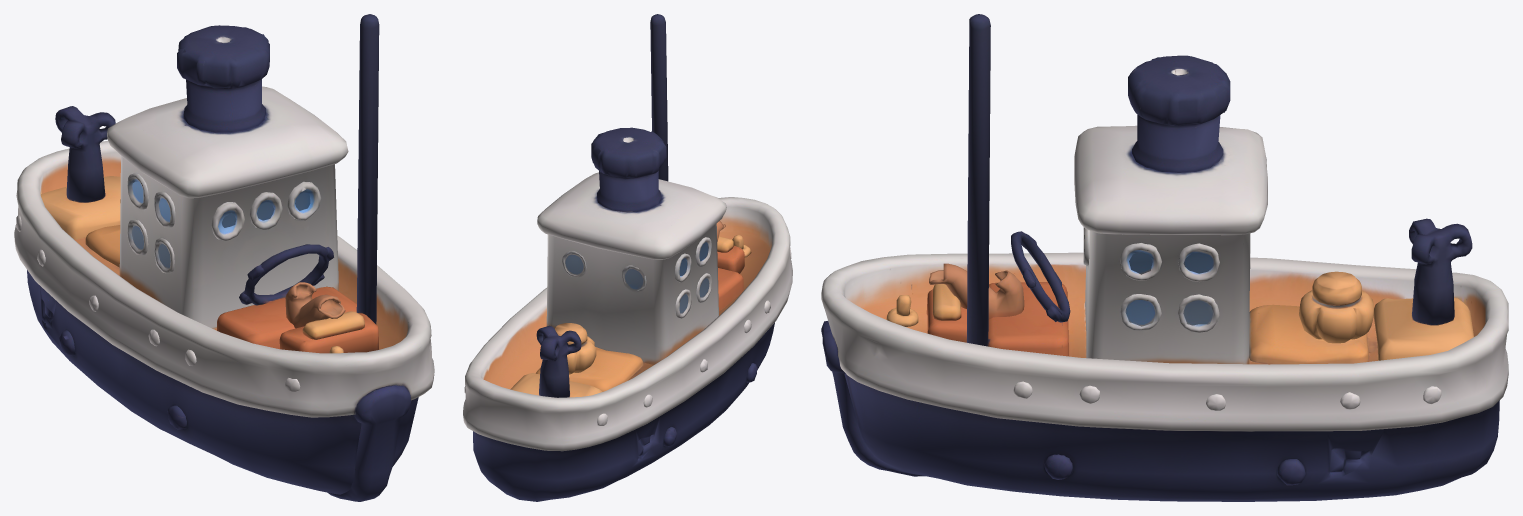
File: ship.glb
The picture shows the model from 3 angles, left to right: view 1: azimuth 30°, elevation 25°; view 2: azimuth 150°, elevation 25°; view 3: azimuth 270°, elevation 25°; orthographic projection. The views are drawn at different scales.
Visible parts, largest first — view 1: tripo_node_0cf9fa24-f980-418a-807a-9b3106175c43; view 2: tripo_node_0cf9fa24-f980-418a-807a-9b3106175c43; view 3: tripo_node_0cf9fa24-f980-418a-807a-9b3106175c43.
Boxes of the visible parts, x1,y1,x2,y2 form: tripo_node_0cf9fa24-f980-418a-807a-9b3106175c43: [14, 14, 434, 501]; tripo_node_0cf9fa24-f980-418a-807a-9b3106175c43: [463, 14, 792, 501]; tripo_node_0cf9fa24-f980-418a-807a-9b3106175c43: [821, 14, 1508, 501].
Size of the model in its own units: 0.4316 by 0.7754 by 0.998.
1 material, 1 textured.
